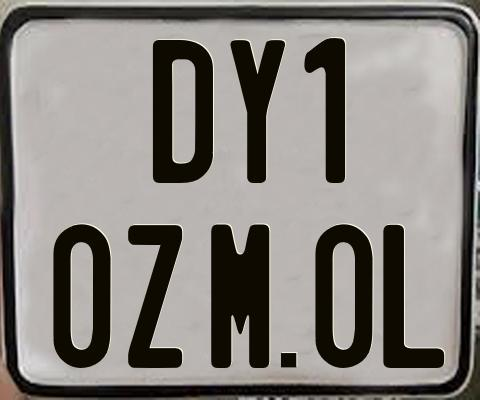0: (313, 224, 374, 374), (51, 222, 113, 367)
1: (301, 38, 345, 183)
D: (150, 39, 214, 185)
L: (382, 224, 446, 370)
M: (209, 222, 271, 372)
Y: (227, 38, 282, 185)
Z: (128, 224, 186, 371)
